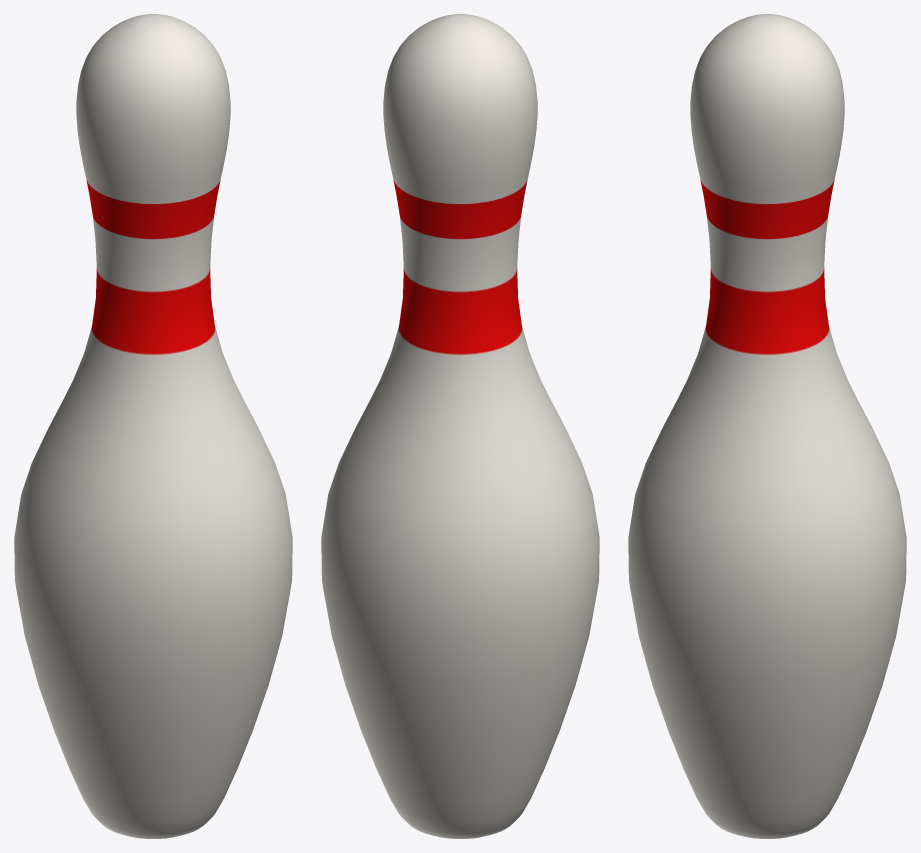
File: BowlingPin.fbx
The picture shows the model from 3 angles, left to right: view 1: azimuth 30°, elevation 25°; view 2: azimuth 150°, elevation 25°; view 3: azimuth 270°, elevation 25°; orthographic projection.
Visible parts, largest first — view 1: Pin01_LOD0; view 2: Pin01_LOD0; view 3: Pin01_LOD0.
Boxes of the visible parts, x1,y1,x2,y2 form: Pin01_LOD0: [14, 14, 292, 838]; Pin01_LOD0: [321, 14, 599, 838]; Pin01_LOD0: [628, 14, 906, 838].
Size of what is drawn, in the model's own units: 12.08 by 38.32 by 12.08.
